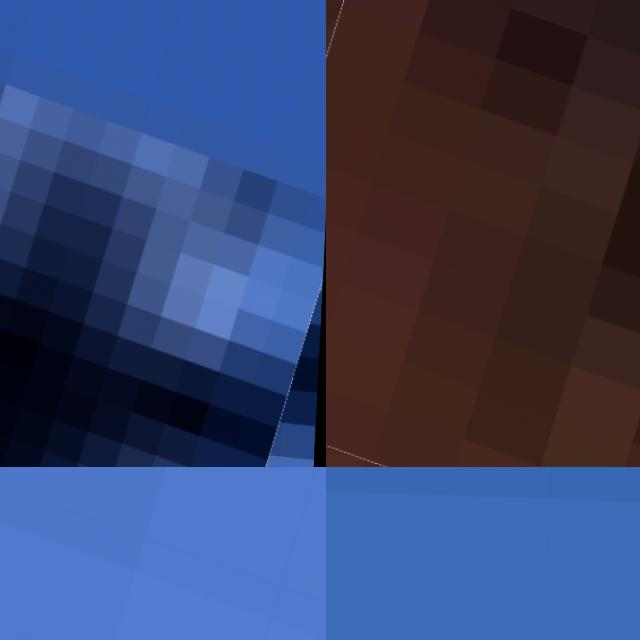drone: (0, 0, 326, 467), (326, 0, 640, 467), (0, 467, 326, 640)
